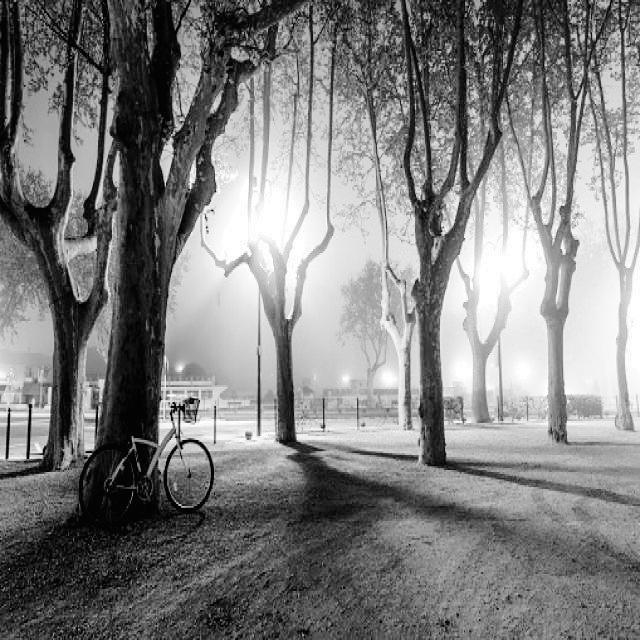Bicycle: (69, 412, 250, 547)
Tree: (98, 0, 229, 487), (0, 0, 116, 459), (378, 0, 473, 469), (235, 33, 329, 448), (518, 2, 583, 446), (600, 0, 640, 434)
